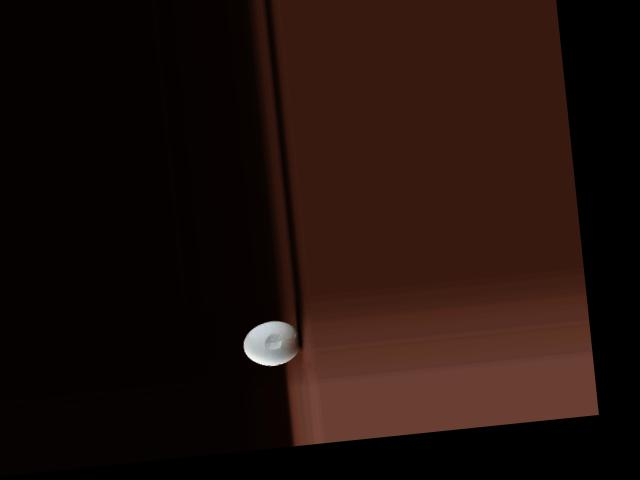egg: (240, 318, 302, 368)
